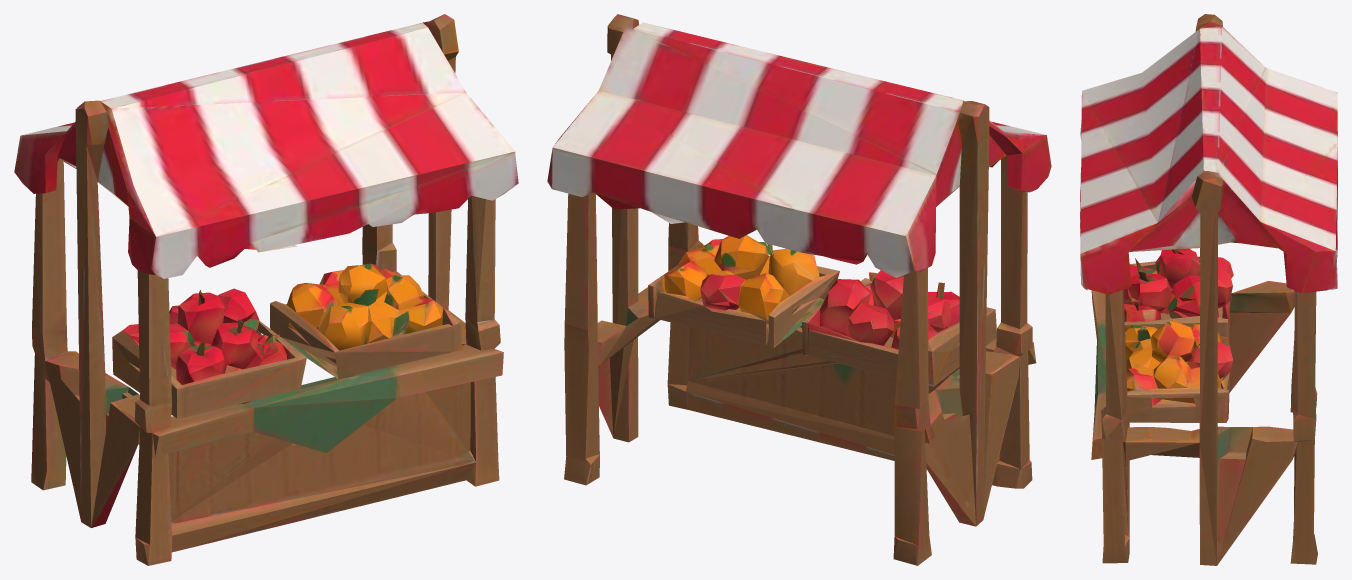
The model's file is shop-stall-basic.glb.
The picture shows the model from 3 angles, left to right: view 1: azimuth 30°, elevation 25°; view 2: azimuth 150°, elevation 25°; view 3: azimuth 270°, elevation 25°; orthographic projection. The views are drawn at different scales.
Parts seen in each view (by area): view 1: shop-stall-basic-fit; view 2: shop-stall-basic-fit; view 3: shop-stall-basic-fit.
Boxes of the visible parts, x1,y1,x2,y2 form: shop-stall-basic-fit: (14,14,518,565); shop-stall-basic-fit: (547,14,1051,565); shop-stall-basic-fit: (1080,14,1337,565).
Bounding box in the file's own units: 1.92 × 2.08 × 1.25.
1 material, 1 textured.
